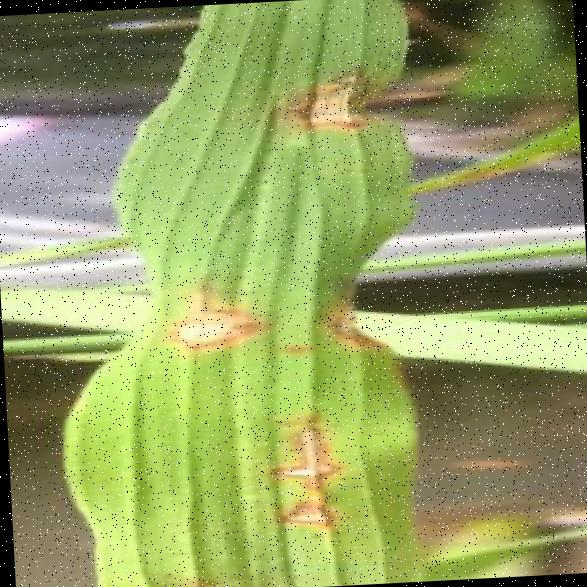Leaf_smut: (251, 38, 423, 160), (141, 260, 282, 376), (252, 390, 363, 536), (310, 265, 401, 377)
